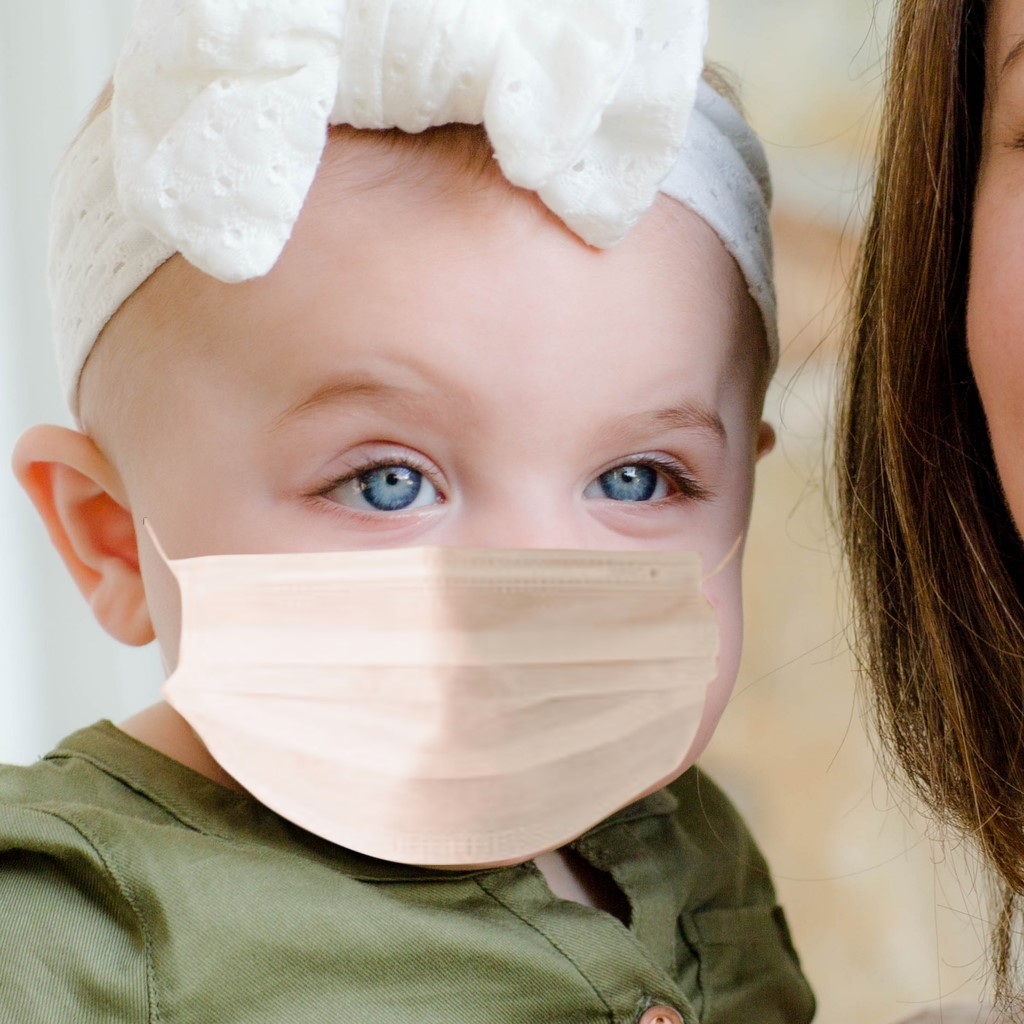con_mascara: (95, 131, 738, 820)
